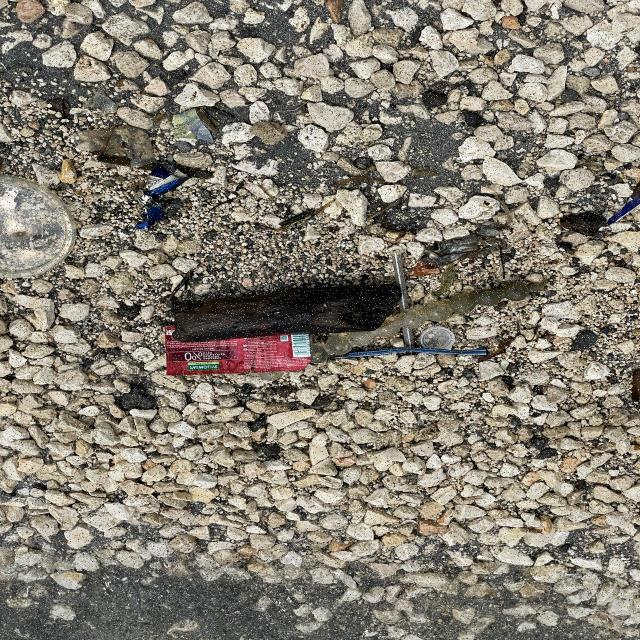plastic_waste: (166, 332, 312, 377), (137, 162, 192, 232), (171, 109, 221, 147), (422, 327, 456, 351)
wood_waste: (173, 285, 403, 345)
